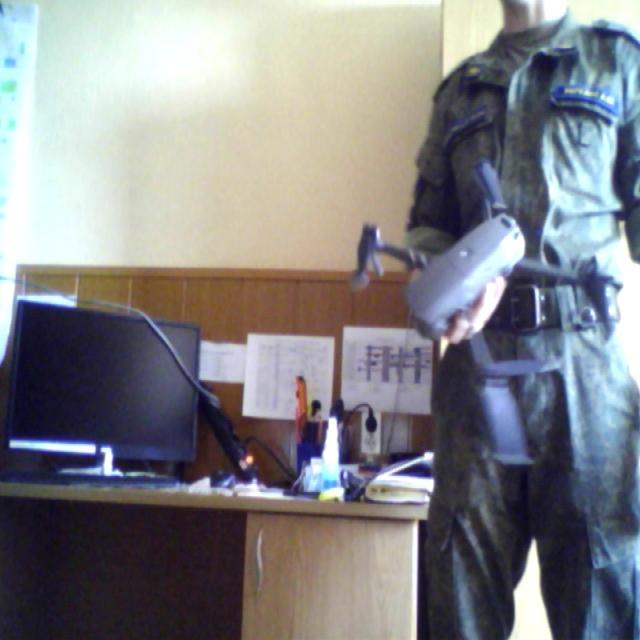drone: (348, 147, 635, 426)
